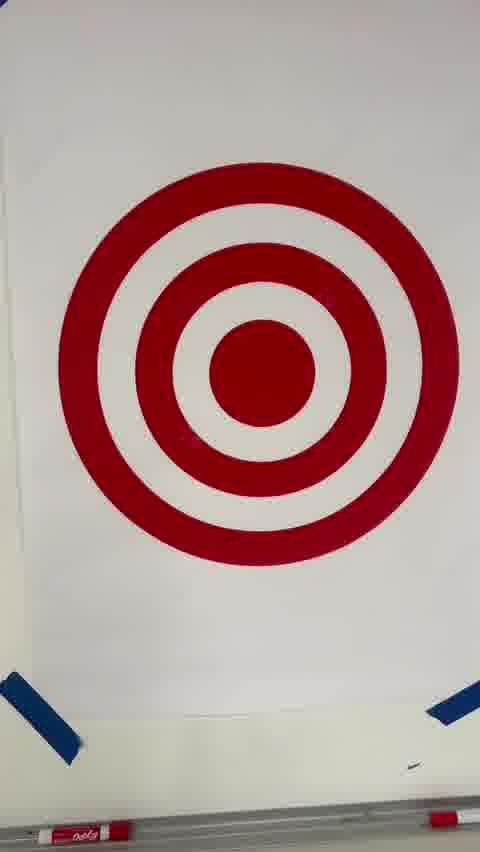target_red: (58, 159, 461, 566)
